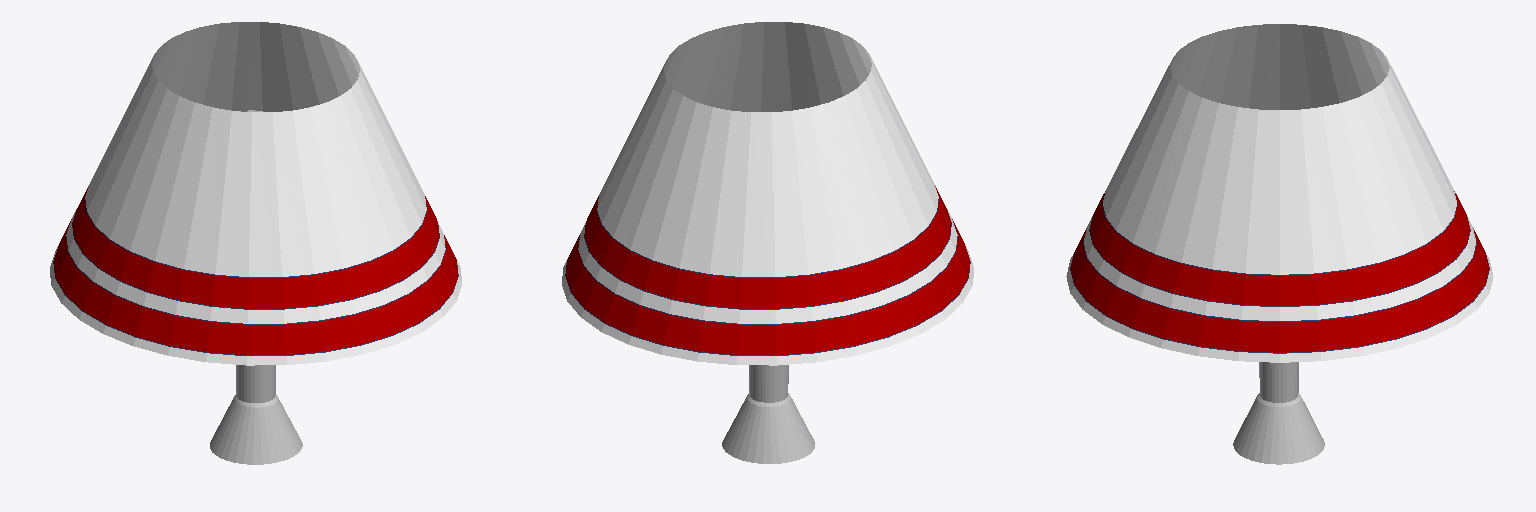
3 renders of one model, left to right at view 1: azimuth 30°, elevation 25°; view 2: azimuth 150°, elevation 25°; view 3: azimuth 270°, elevation 25°, orthographic.
Visible parts, largest first — view 1: Cilindro.012, Cilindro.013; view 2: Cilindro.012, Cilindro.013; view 3: Cilindro.012, Cilindro.013.
Boxes of the visible parts, <box> form: Cilindro.012: <box>50,22,461,365</box>; Cilindro.013: <box>210,365,302,464</box>; Cilindro.012: <box>562,22,973,365</box>; Cilindro.013: <box>722,365,814,463</box>; Cilindro.012: <box>1066,24,1493,362</box>; Cilindro.013: <box>1233,362,1324,464</box>.
Bounding box in the file's own units: 15.5 × 15.81 × 16.21.
3 materials, 1 textured.